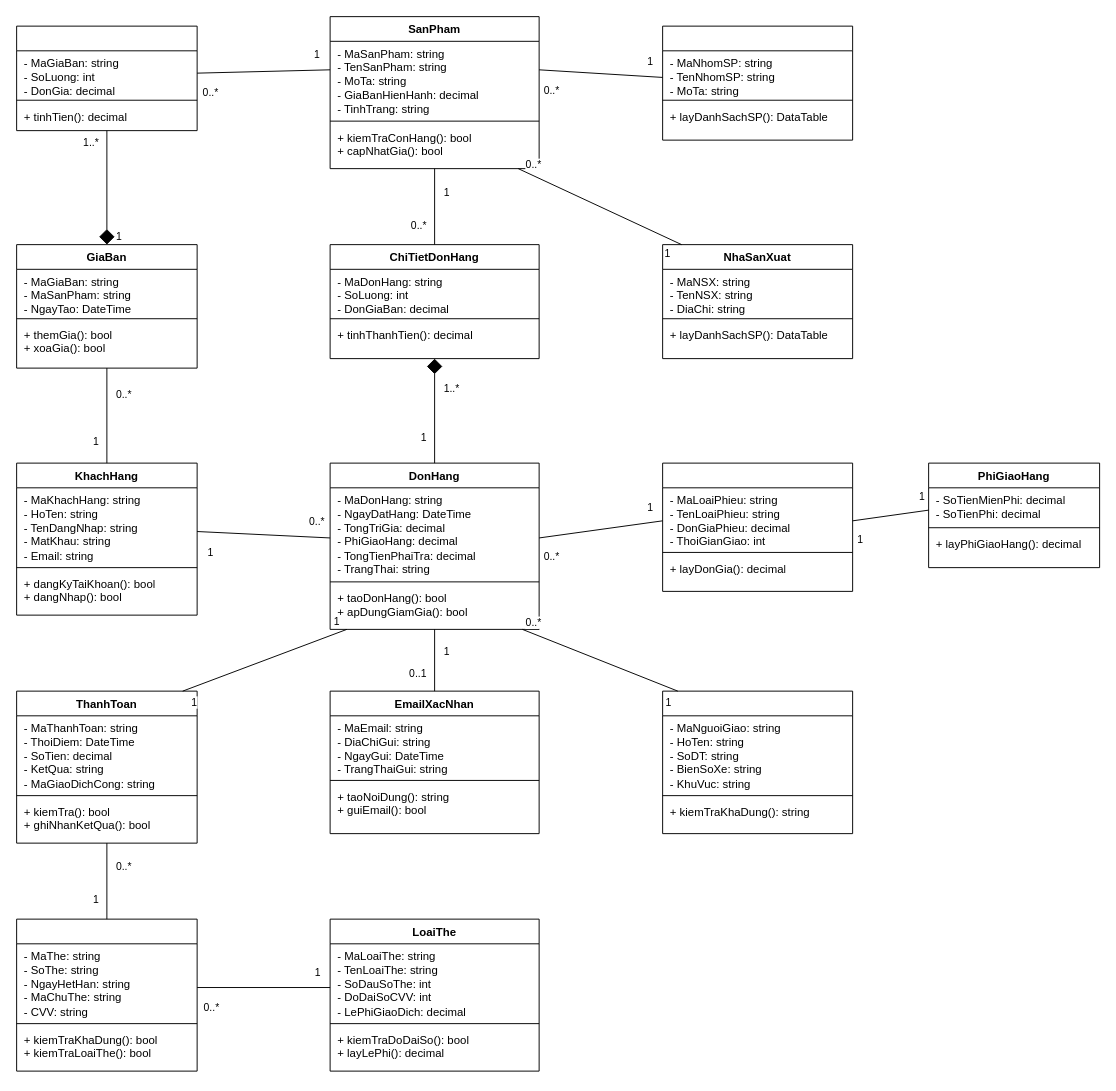
Some shapes in this 1116 by 1091 pixel diagram are drawn without their labels. Here are the shapes that lost their labels. From the top down, the box of each, then its label:
(16, 25, 197, 131): ChiTietGiaBan
(662, 25, 853, 140): NhomSanPham
(662, 462, 853, 591): LoaiPhieuGiaoHang
(662, 690, 853, 834): NguoiGiaoHang
(16, 918, 197, 1071): TheTinDung
